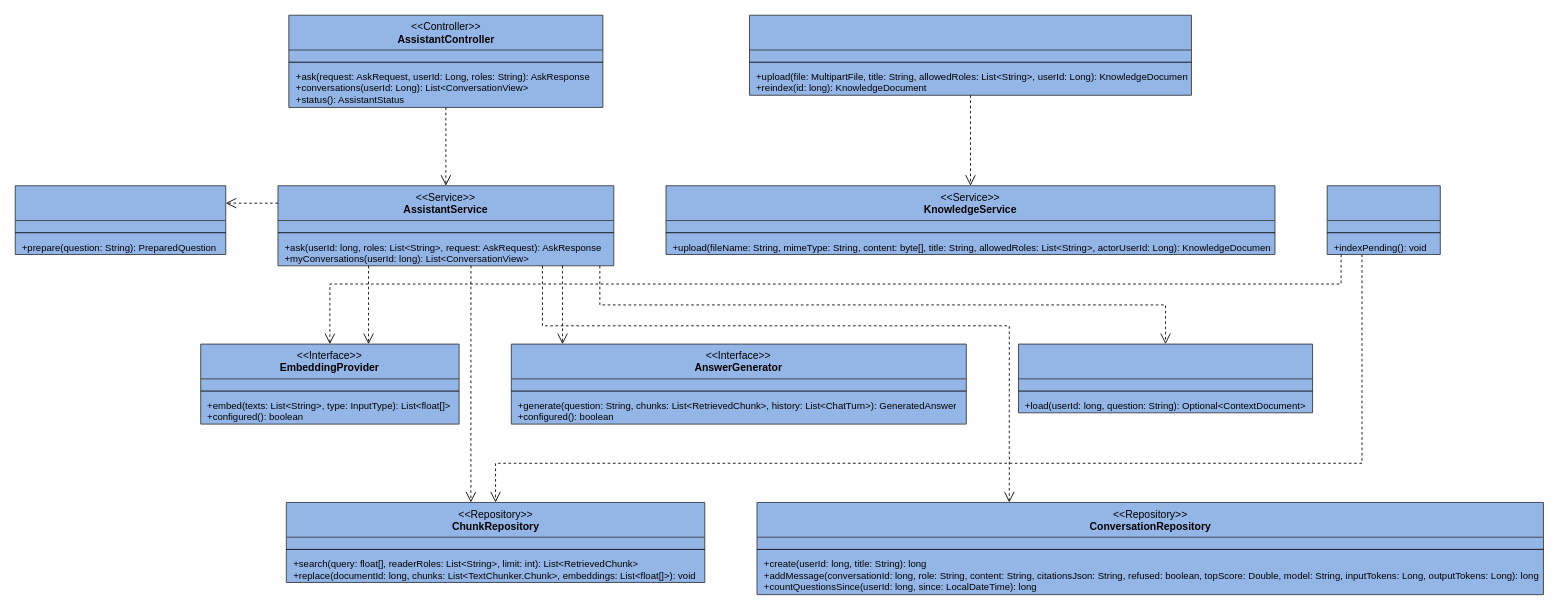
Image size: 1559x612. Some labels were removed from this diagram. The box of each missing label's shape, as (x1, y1, x2, y2) in pixels:
<<Component>> KnowledgeIndexer: (1326, 185, 1440, 254)
<<Component>> QuestionPreparer: (14, 185, 226, 254)
<<Controller>> KnowledgeAdminController: (749, 14, 1191, 95)
<<Service>> OrderContextService: (1018, 343, 1313, 413)
